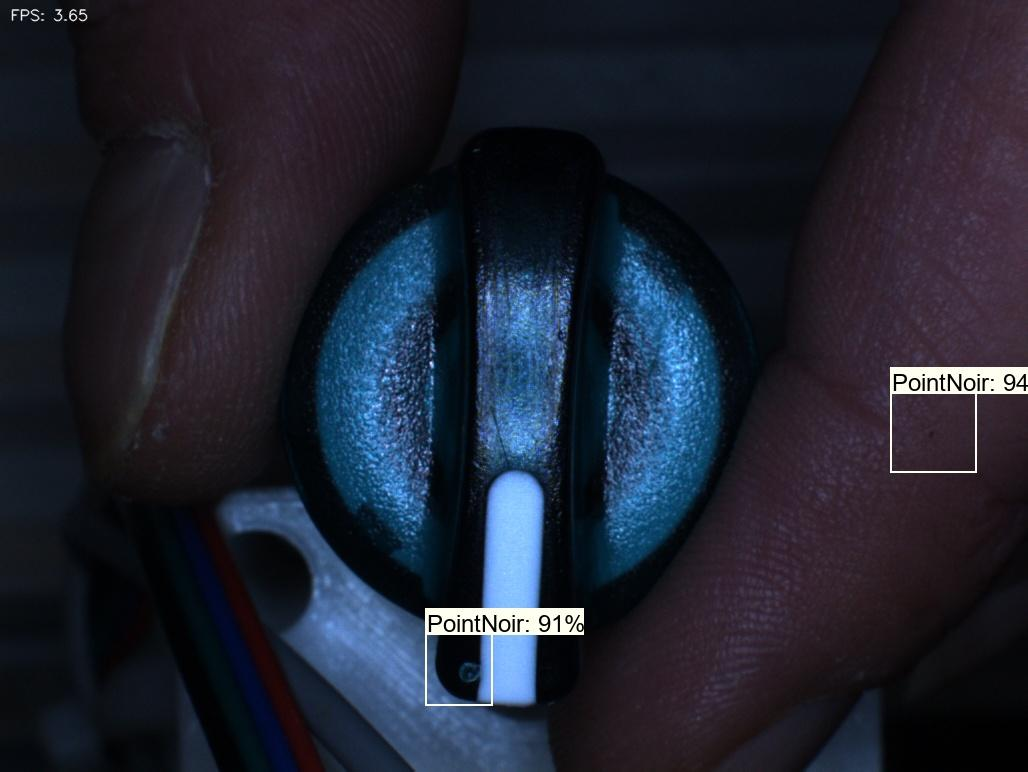Choc: (432, 642, 508, 724)
